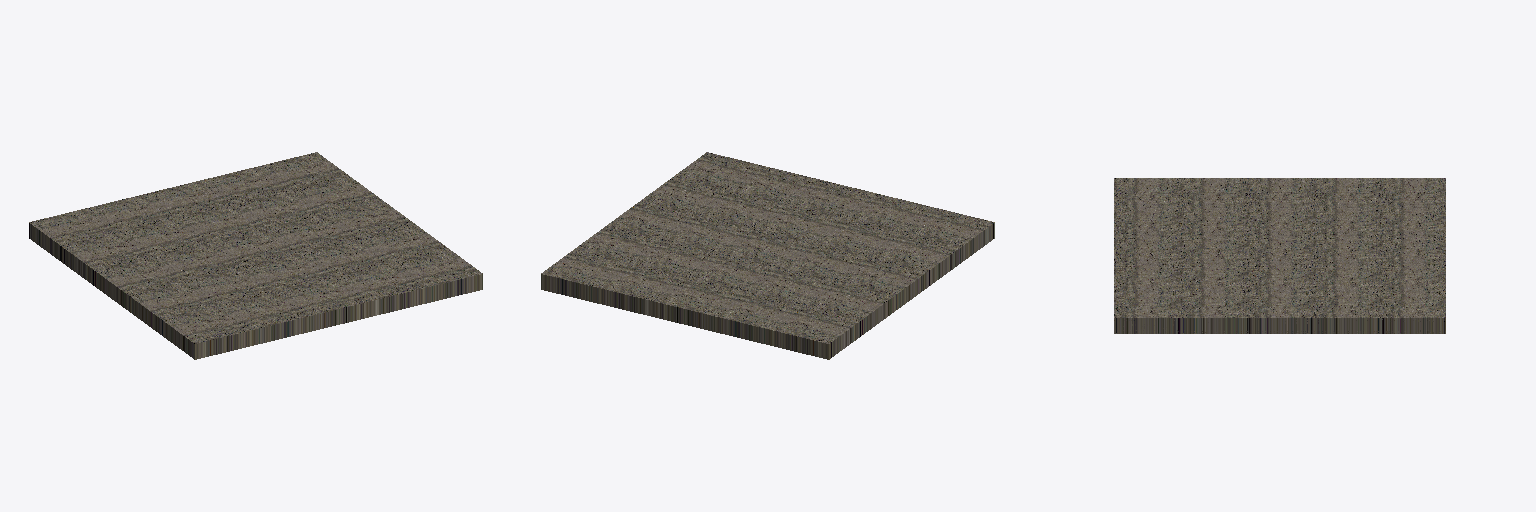
The picture shows the model from 3 angles: view 1: azimuth 30°, elevation 25°; view 2: azimuth 150°, elevation 25°; view 3: azimuth 270°, elevation 25°; orthographic projection.
Parts seen in each view (by area): view 1: Box01; view 2: Box01; view 3: Box01.
Boxes of the visible parts, x1=… form: Box01: x1=29, y1=152, x2=482, y2=359; Box01: x1=541, y1=152, x2=994, y2=359; Box01: x1=1114, y1=178, x2=1445, y2=333.
Size of the model in its own units: 40 by 2.09 by 40.
1 materials, 1 textured.